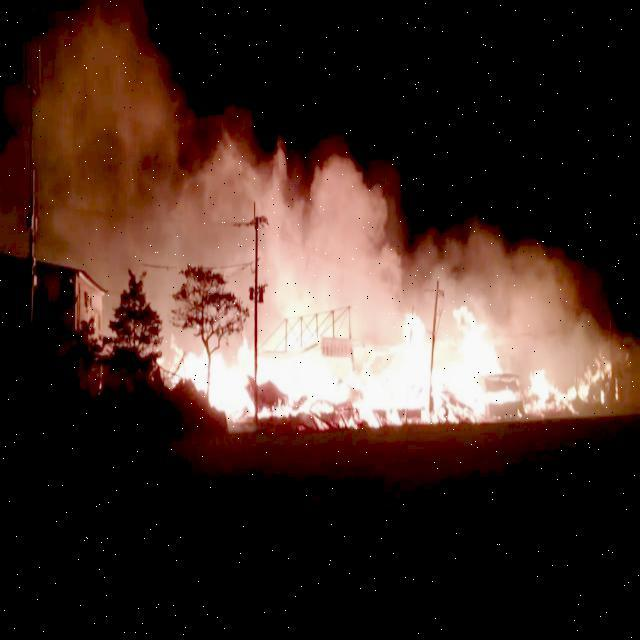Fire: (150, 308, 621, 434)
